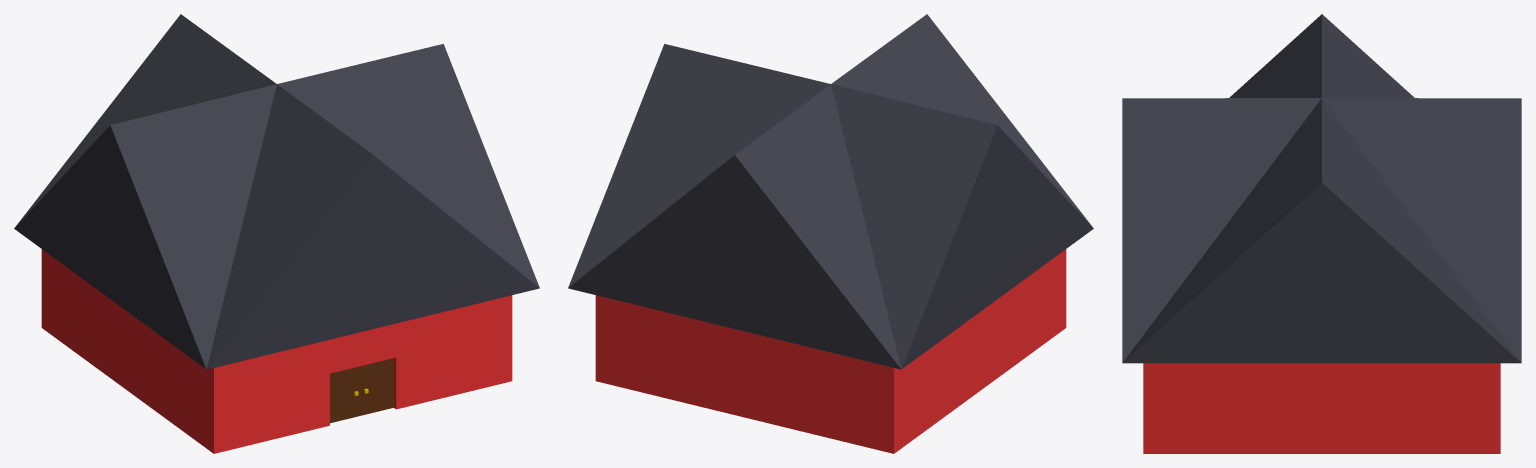
The model's file is building.fbx.
3 views of the same model, side by side, from view 1: azimuth 30°, elevation 25°; view 2: azimuth 150°, elevation 25°; view 3: azimuth 270°, elevation 25° (orthographic). The views are drawn at different scales.
Parts seen in each view (by area): view 1: Roof, Building Base, Door Right, Door Left; view 2: Roof, Building Base; view 3: Roof, Building Base.
Part boxes in pixels (bbox=[...]): Roof: bbox=[14, 14, 539, 369]; Building Base: bbox=[41, 249, 512, 453]; Door Right: bbox=[360, 358, 393, 415]; Door Left: bbox=[330, 366, 360, 423]; Roof: bbox=[568, 14, 1093, 369]; Building Base: bbox=[595, 249, 1066, 453]; Roof: bbox=[1122, 14, 1521, 363]; Building Base: bbox=[1143, 363, 1500, 453].
Bounding box in the file's own units: 4025 × 3120 × 4025.
